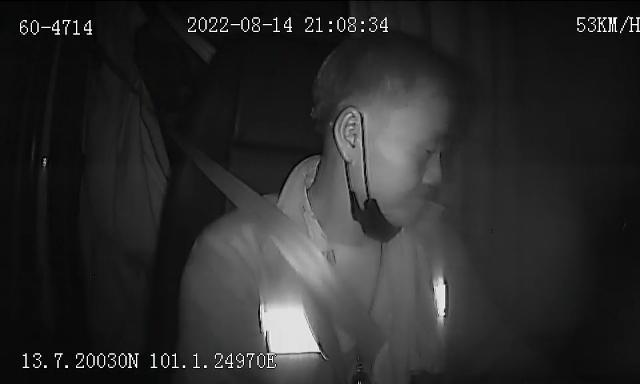Seatbelt: (196, 160, 390, 370)
